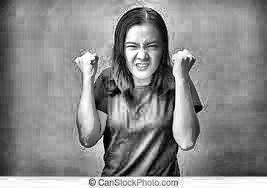angry: (108, 16, 173, 88)
